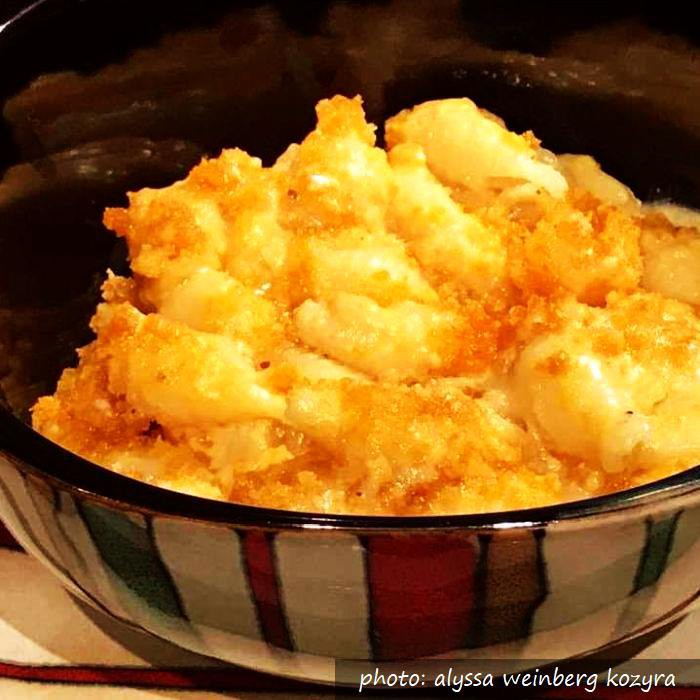cheese: (188, 152, 533, 450)
